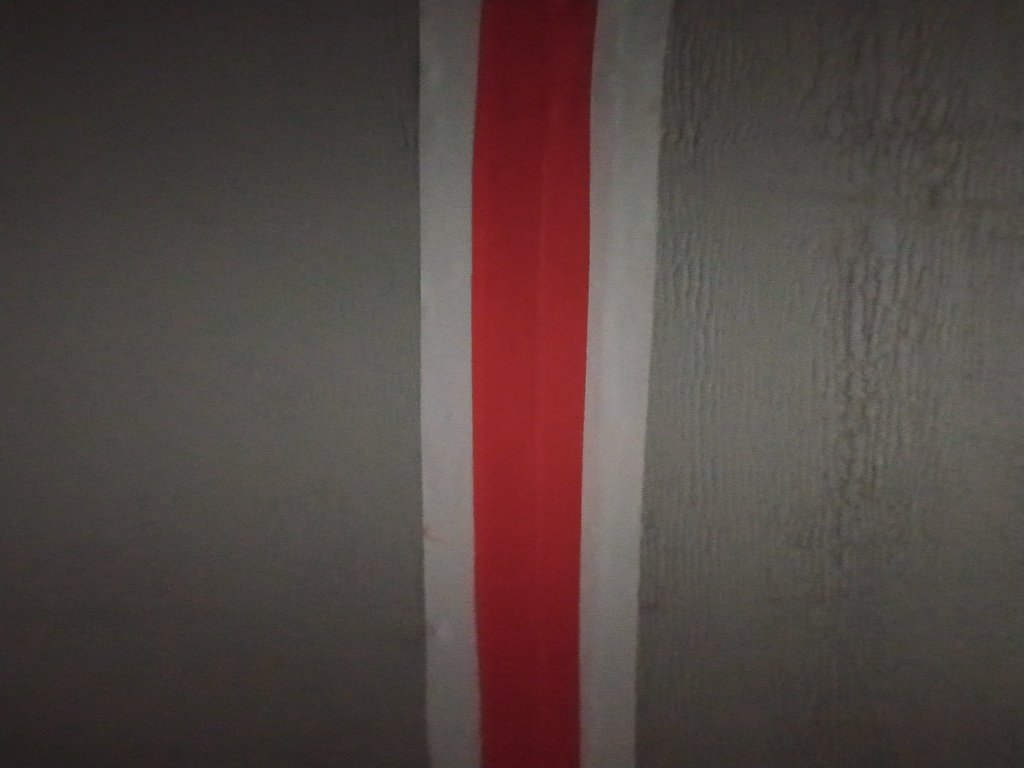reta: (415, 9, 646, 768)
